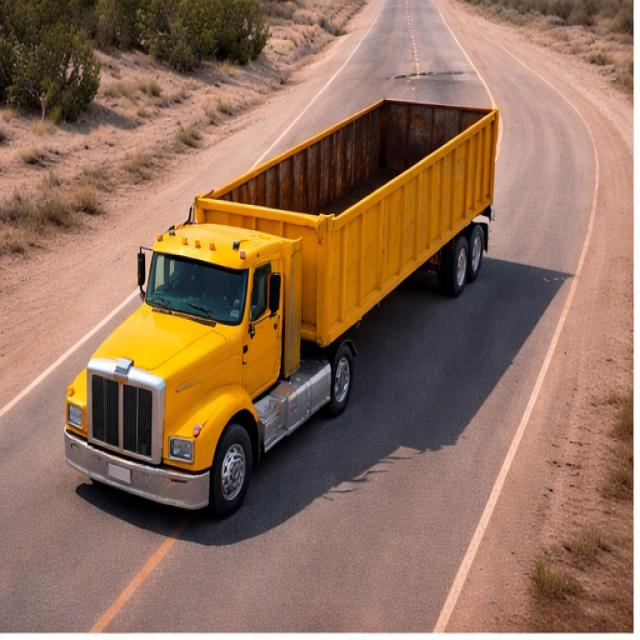trailer: (210, 96, 508, 217)
truck: (54, 26, 514, 502)
